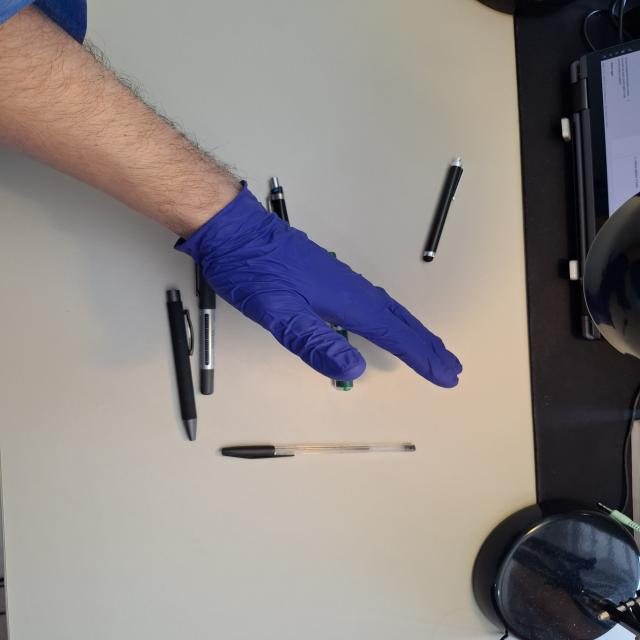glove_on: (171, 179, 466, 391)
